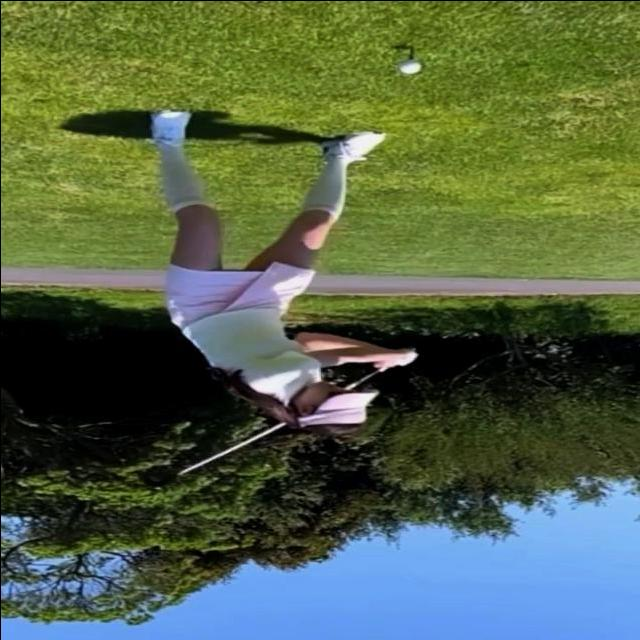ClubHandle: (132, 345, 419, 488)
ClubHead: (133, 471, 175, 488)
GolfBall: (394, 58, 425, 74)
